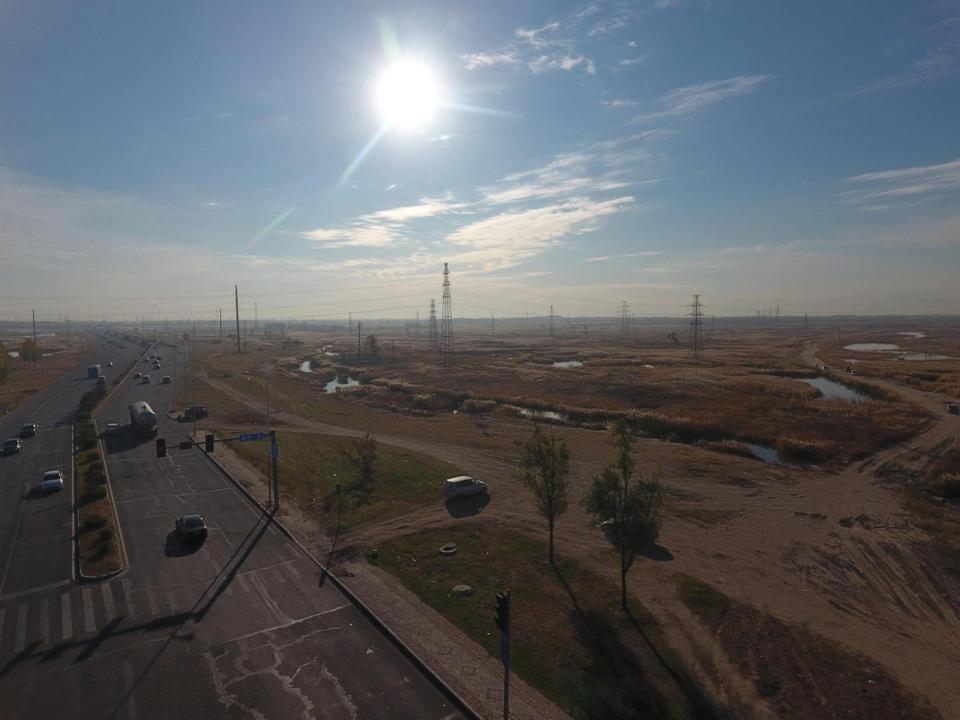bus: (87, 364, 101, 378)
car: (445, 475, 488, 500), (176, 514, 208, 541), (41, 470, 64, 492), (1, 438, 23, 454), (19, 423, 41, 436), (105, 423, 122, 436), (942, 404, 960, 414), (96, 376, 106, 384), (162, 376, 172, 383), (820, 366, 830, 371), (851, 370, 859, 376), (106, 361, 112, 367), (154, 363, 160, 369), (156, 355, 162, 361), (134, 372, 141, 377), (524, 344, 532, 348), (153, 359, 158, 364), (151, 354, 156, 358), (145, 357, 148, 362), (104, 346, 107, 350), (101, 344, 105, 347), (154, 346, 157, 350), (158, 344, 162, 347), (154, 343, 158, 346), (149, 344, 153, 346)
truck: (129, 401, 157, 438)
van: (185, 405, 209, 417), (142, 375, 150, 383)
